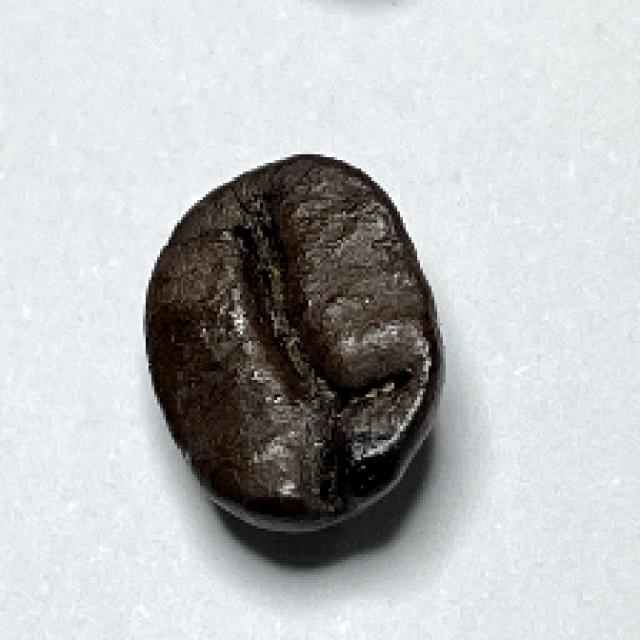bean: (140, 157, 446, 536)
